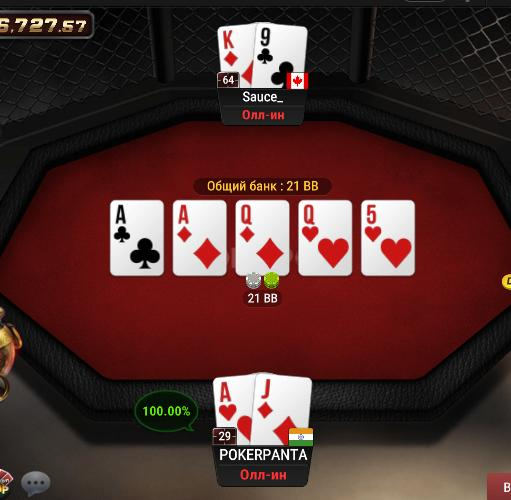5h: (361, 201, 415, 275)
9c: (254, 21, 309, 89)
Ac: (111, 200, 163, 276)
Ad: (173, 201, 226, 275)
Ah: (211, 374, 254, 446)
Jd: (255, 373, 312, 447)
Kd: (216, 25, 254, 87)
Qd: (235, 200, 290, 277)
Qh: (299, 201, 353, 275)
